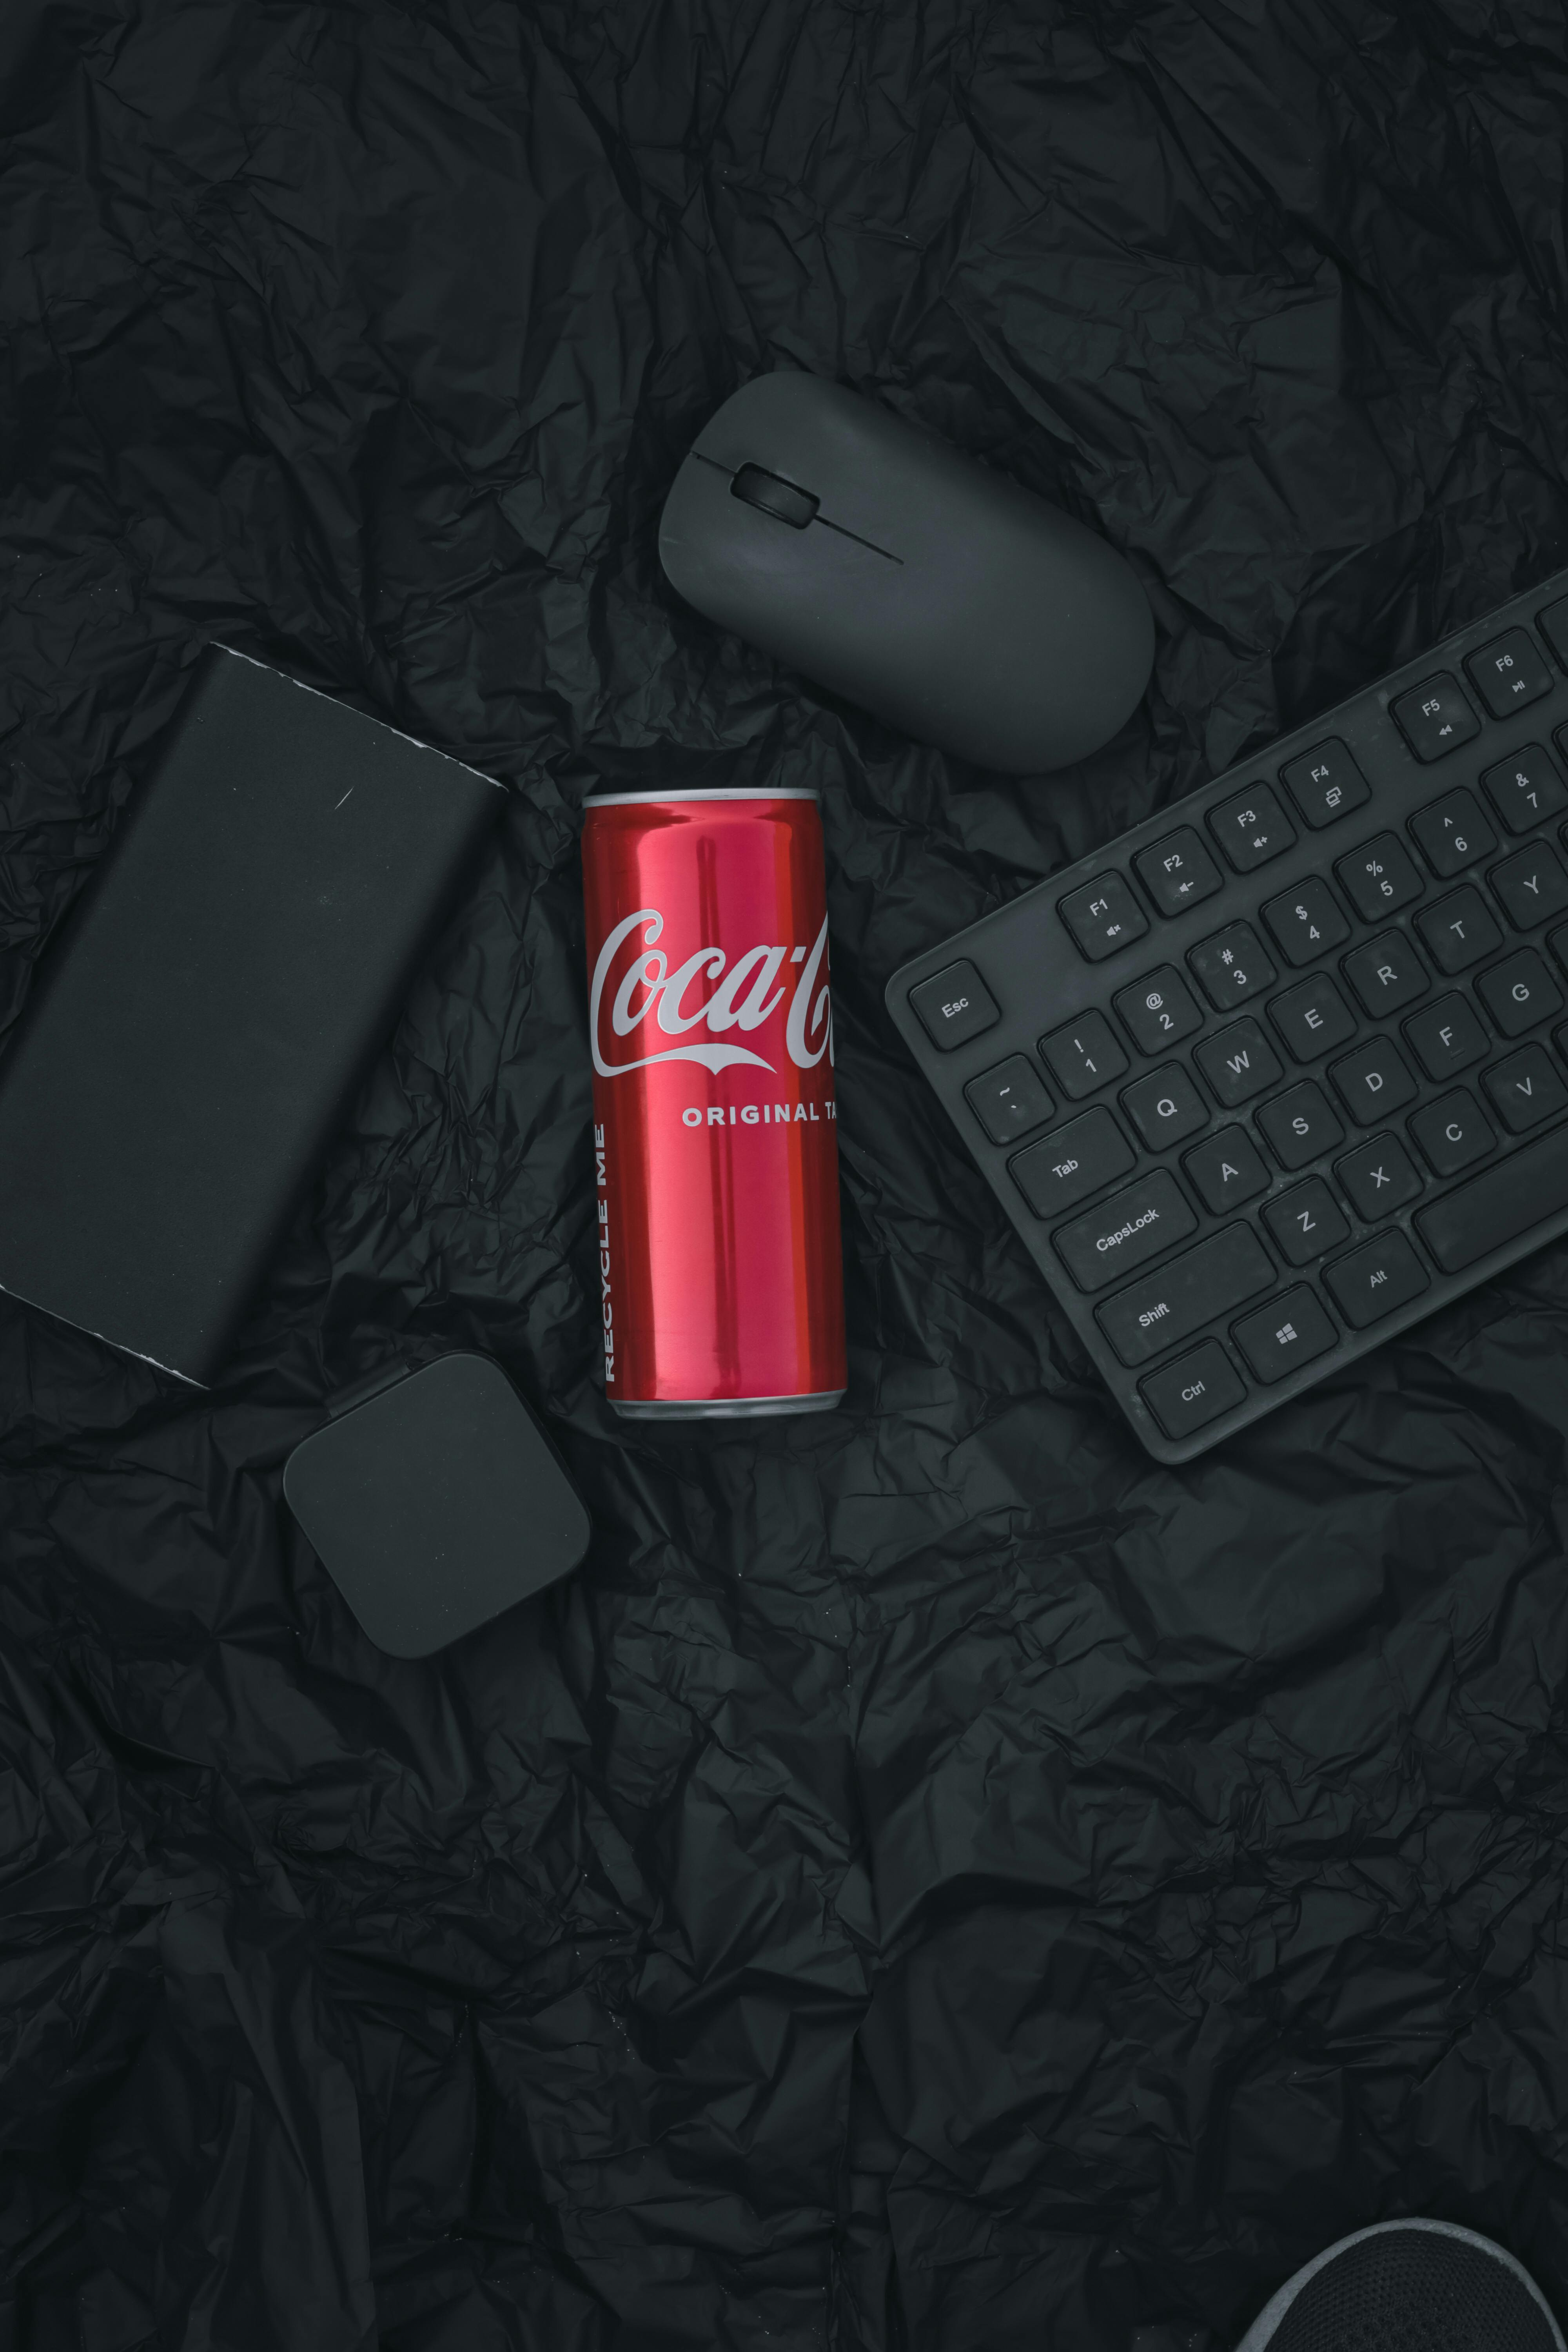COCOCOLA: (584, 794, 839, 1403)
